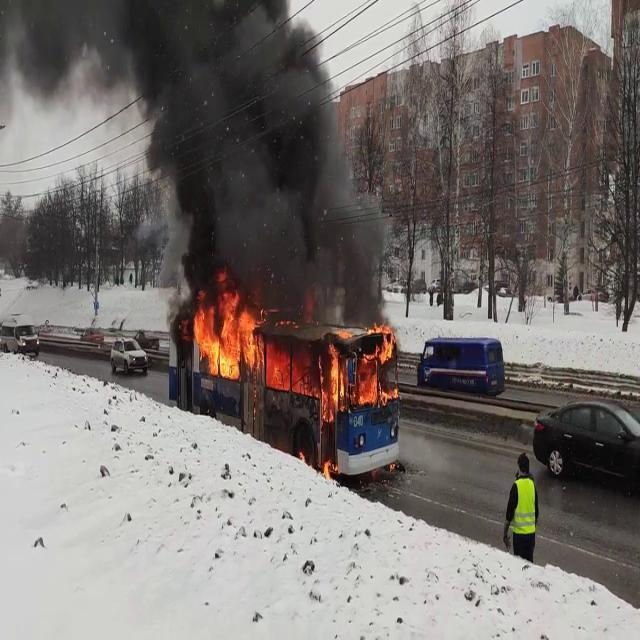Fire: (190, 283, 268, 382), (322, 322, 398, 410)
Smoke: (108, 0, 387, 316)
